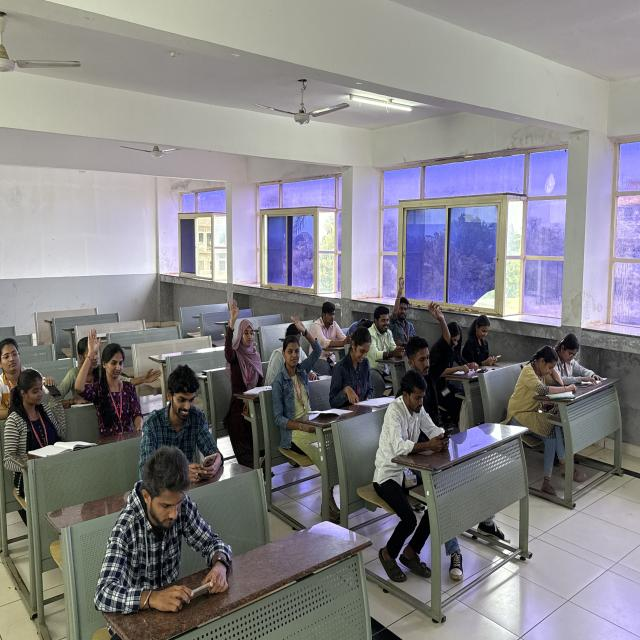Hand Rising: (215, 294, 273, 448), (271, 312, 320, 451), (75, 326, 137, 434), (390, 271, 420, 361)
Reading: (510, 341, 570, 472), (332, 326, 385, 422), (548, 322, 604, 392)
Using Phone: (89, 447, 253, 621), (381, 366, 454, 524), (138, 370, 226, 490), (309, 298, 359, 358), (366, 307, 406, 378), (463, 314, 499, 377)
